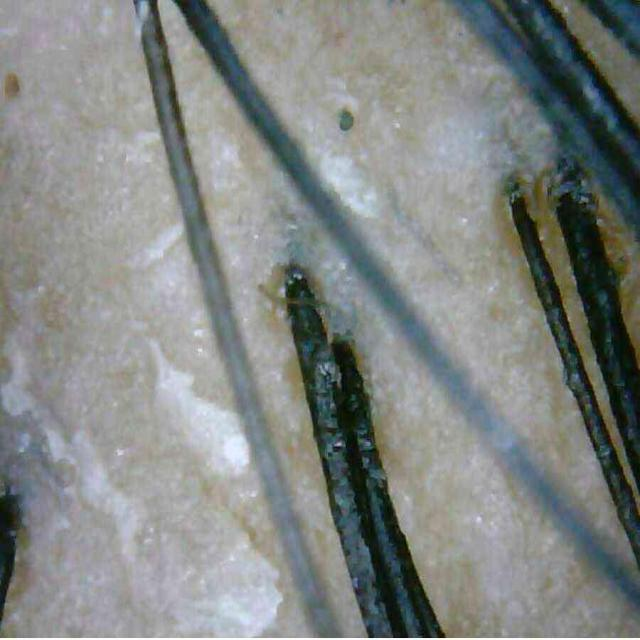ds: (0, 278, 142, 560), (149, 329, 254, 489), (192, 503, 285, 640), (302, 138, 386, 225)
